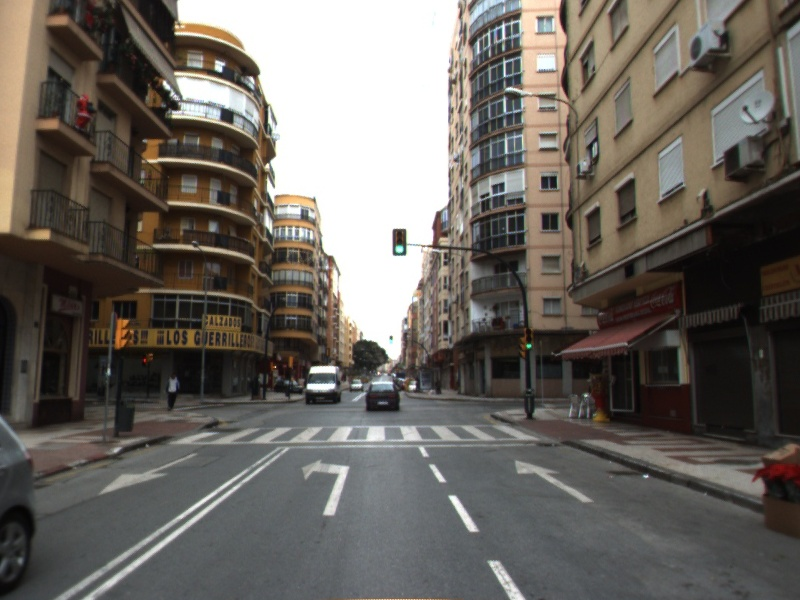LEFT: (300, 458, 351, 517)
STRAIGHT: (513, 458, 596, 504)
